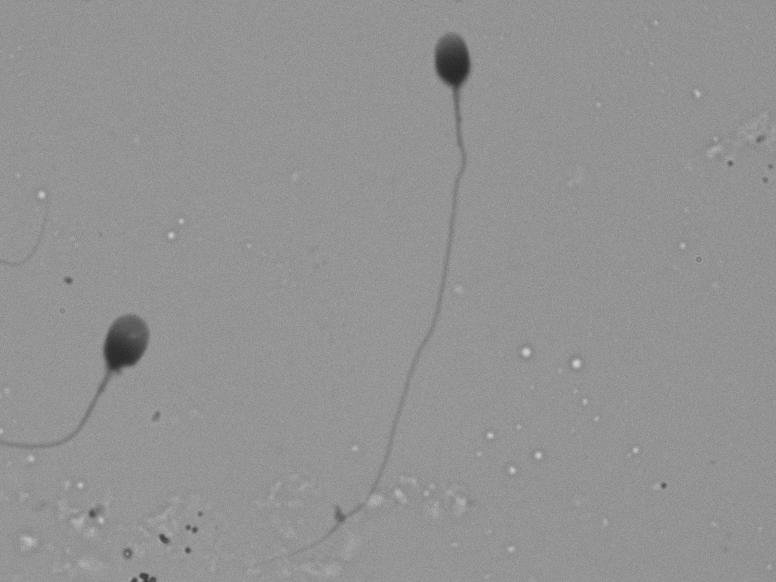Abnormal: (23, 258, 173, 484)
Normal: (284, 16, 522, 551)
